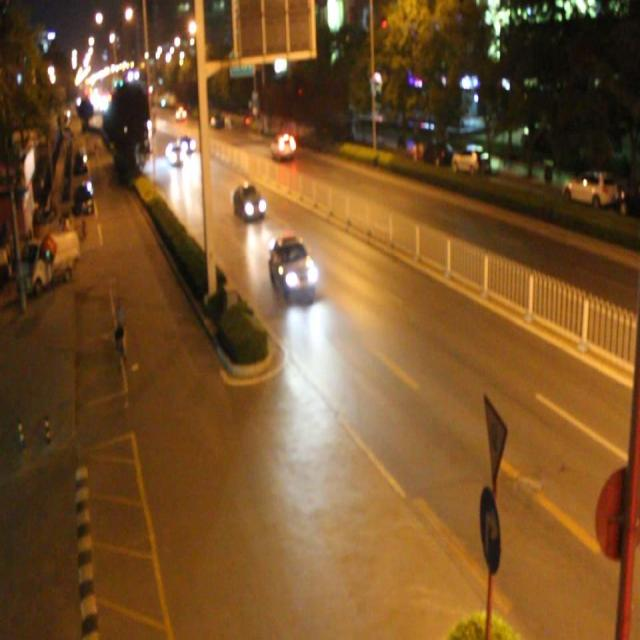car: (269, 234, 316, 298), (231, 182, 266, 222), (268, 132, 296, 164), (166, 143, 184, 168), (178, 134, 195, 153)
